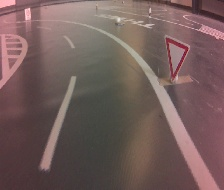give way sign: (163, 34, 190, 82)
